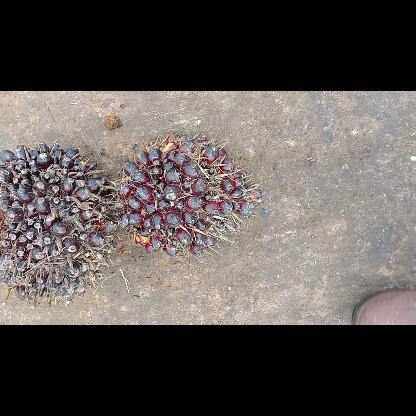TBS mentah: (0, 145, 117, 309), (121, 130, 265, 260)
